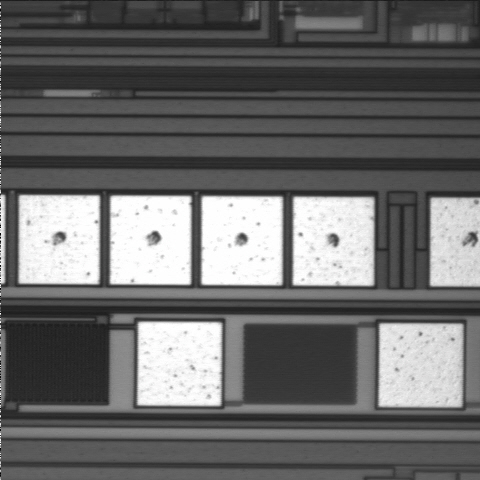pad: (201, 196, 283, 285), (19, 195, 100, 284), (110, 196, 191, 285), (293, 197, 374, 286), (137, 322, 222, 406), (379, 324, 463, 407)
